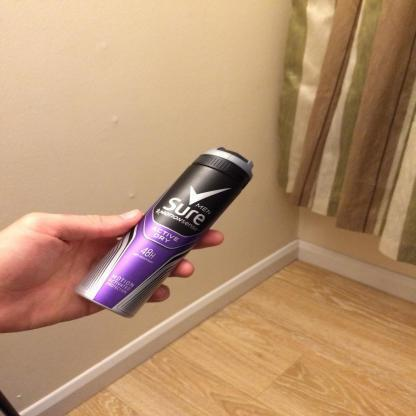metal: (75, 147, 257, 322)
